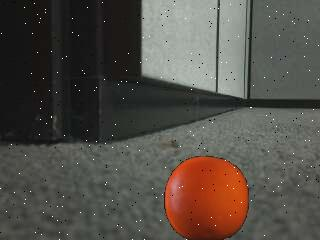Orange: (164, 156, 250, 240)
